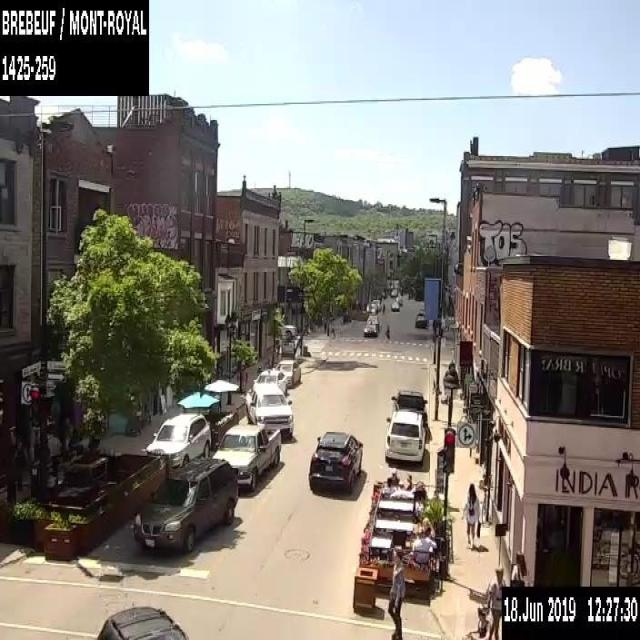cyclist: (463, 604, 492, 638)
pedestrian: (386, 546, 406, 638), (485, 563, 505, 638), (459, 480, 481, 547), (411, 526, 435, 564), (508, 549, 526, 584), (13, 437, 24, 488), (386, 466, 400, 486), (400, 473, 412, 489), (384, 324, 389, 341), (380, 299, 385, 313)
vehicle: (131, 459, 236, 554), (209, 422, 280, 490), (145, 412, 211, 472), (306, 429, 364, 494), (95, 602, 188, 638), (246, 385, 295, 436), (383, 409, 428, 461), (391, 388, 426, 427), (252, 368, 288, 396), (272, 358, 301, 385), (281, 323, 296, 338), (415, 311, 428, 327), (363, 323, 379, 335), (366, 301, 379, 313), (366, 314, 379, 326), (390, 300, 399, 311), (395, 297, 402, 305)
